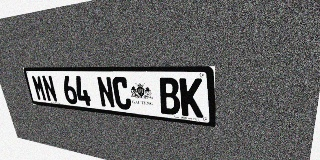4: (73, 76, 92, 106)
6: (60, 76, 79, 105)
B: (158, 78, 181, 116)
C: (111, 77, 132, 110)
K: (179, 78, 203, 118)
M: (31, 75, 47, 101)
N: (96, 76, 116, 109), (41, 75, 58, 102)
